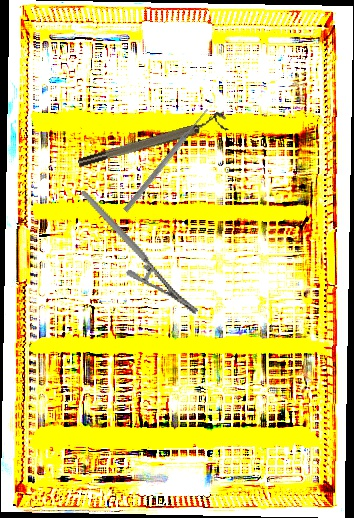Fixation Ring: (75, 110, 229, 170)
Needle Holder: (80, 167, 200, 337)
Pusher: (122, 106, 211, 214)
